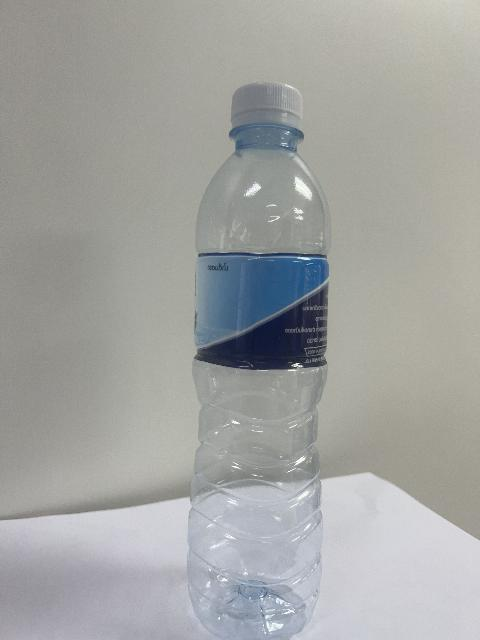bottle: (187, 83, 329, 639)
